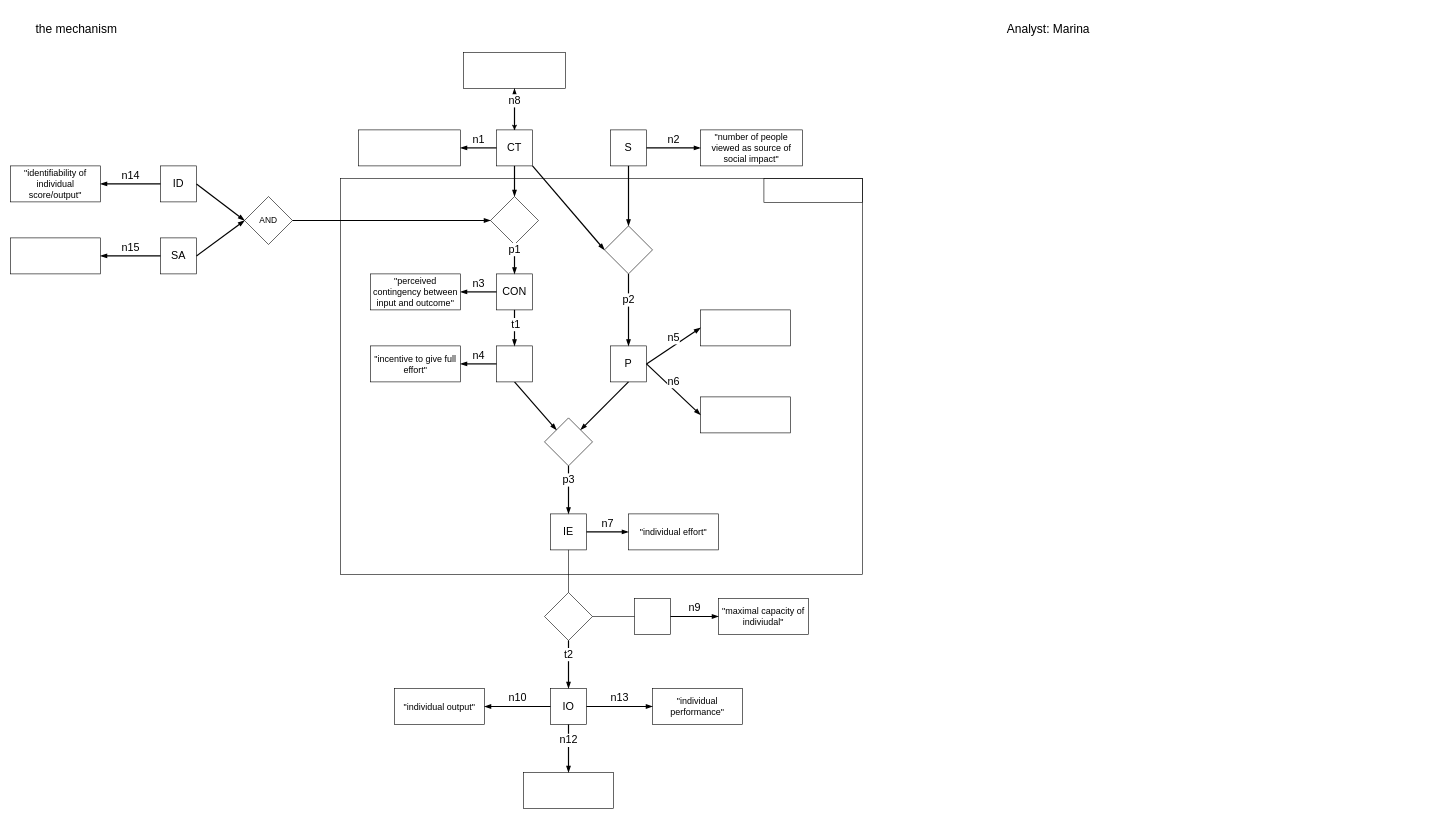
This 1455x819 diagram has some shape labels left out. Here are the shapes that lost their labels. From the top down, the box of each, then its label:
(463, 52, 566, 88): "number of other group members"
(358, 129, 460, 166): "number of people also viewed as targets of social impact"
(763, 178, 862, 202): Psy
(10, 237, 100, 274): "standard available"
(700, 309, 790, 346): "Social impact on each individual"
(496, 345, 532, 382): INC
(700, 396, 790, 433): "Social pressure on each individual"
(634, 598, 670, 634): MC
(523, 772, 614, 808): "individual scores"
